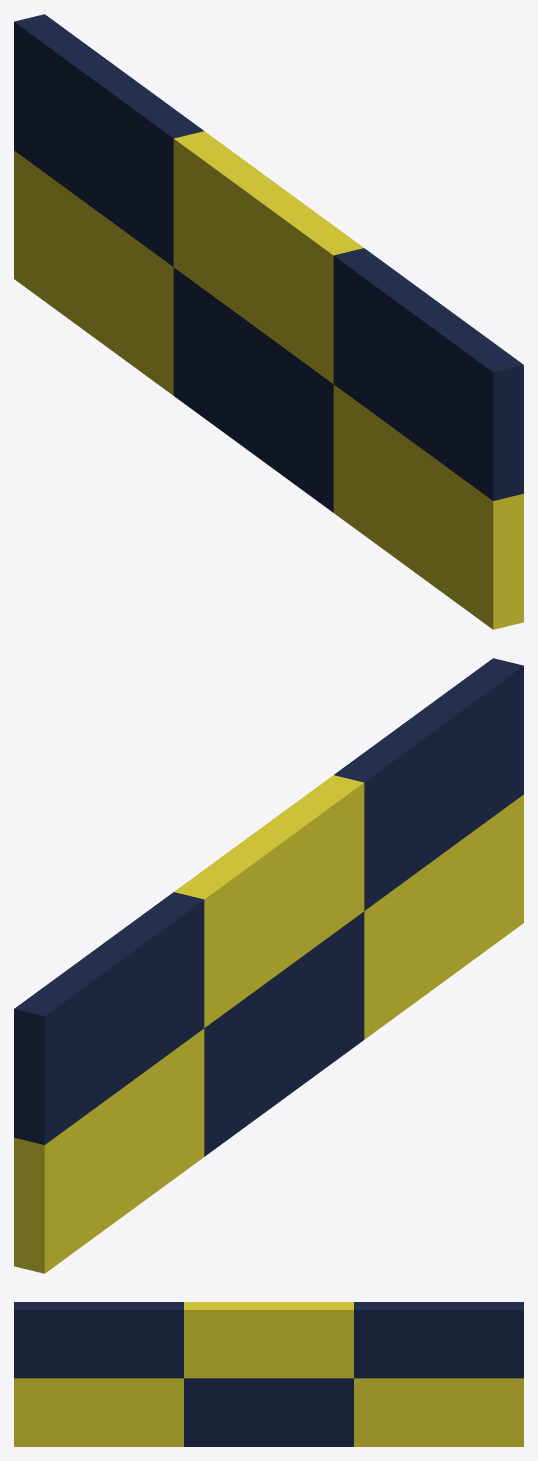
File: riot_van_rear_markings.glb
3 renders of one model, top to bottom at view 1: azimuth 30°, elevation 25°; view 2: azimuth 150°, elevation 25°; view 3: azimuth 270°, elevation 25°, orthographic. The views are drawn at different scales.
Visible parts, largest first — view 1: body:compound; view 2: body:compound; view 3: body:compound.
Boxes of the visible parts, x1,y1,x2,y2 form: body:compound: (14,14,523,629); body:compound: (14,658,523,1273); body:compound: (14,1302,523,1446).
Bounding box in the file's own units: 0.0312 × 0.25 × 0.8438.
